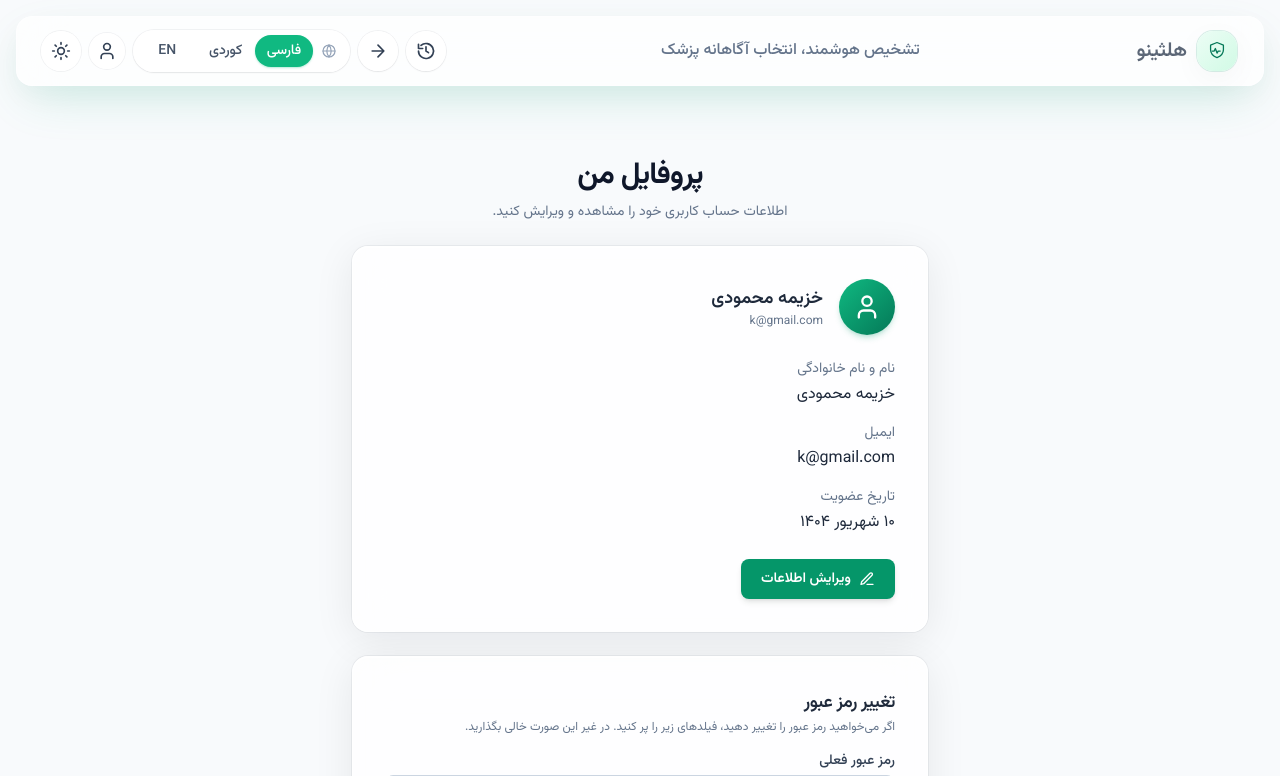
Test: UserProfile.vue › keeps editing and surfaces server errors when updateProfile fails
Click the button with test id "profile-edit-button" at {"x": 818, "y": 579}, box [741,559,895,599]
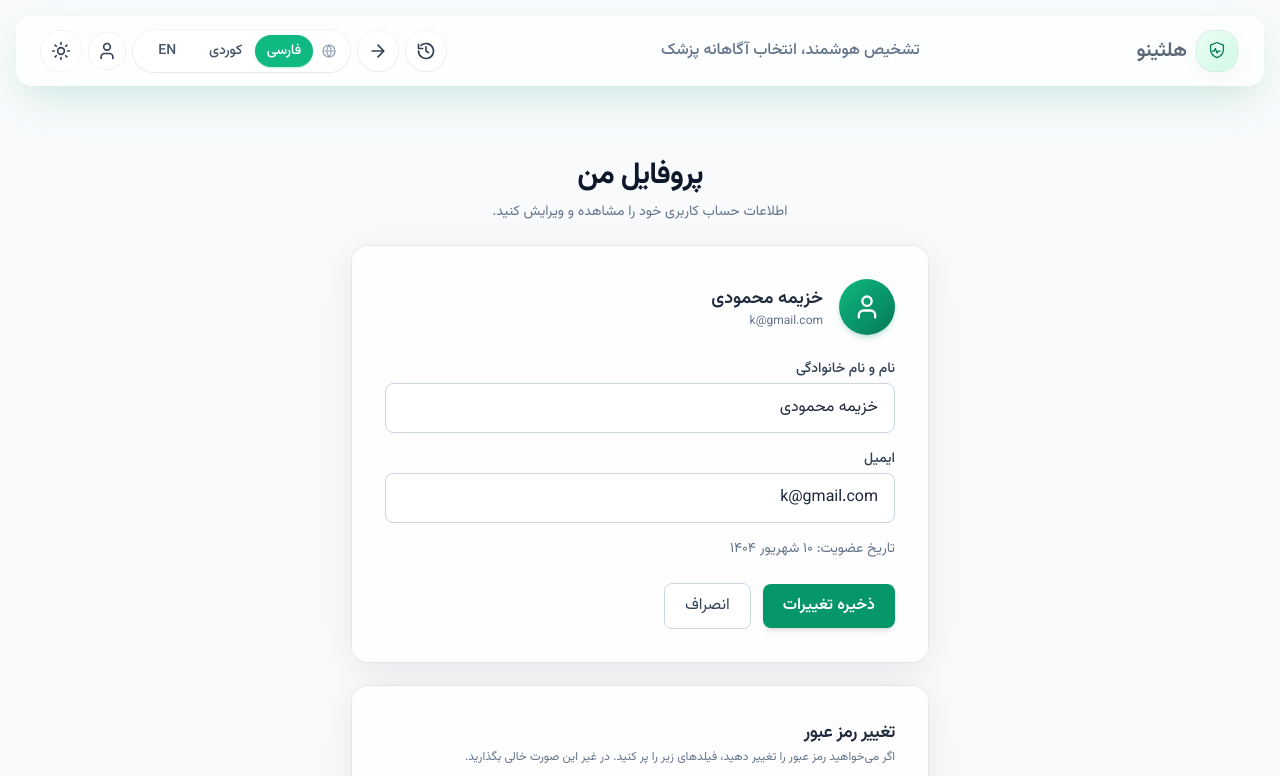
Replace the text in the field with test id "profile-email-input" with "taken@example.com" at {"x": 640, "y": 498}, box [385,473,895,523]
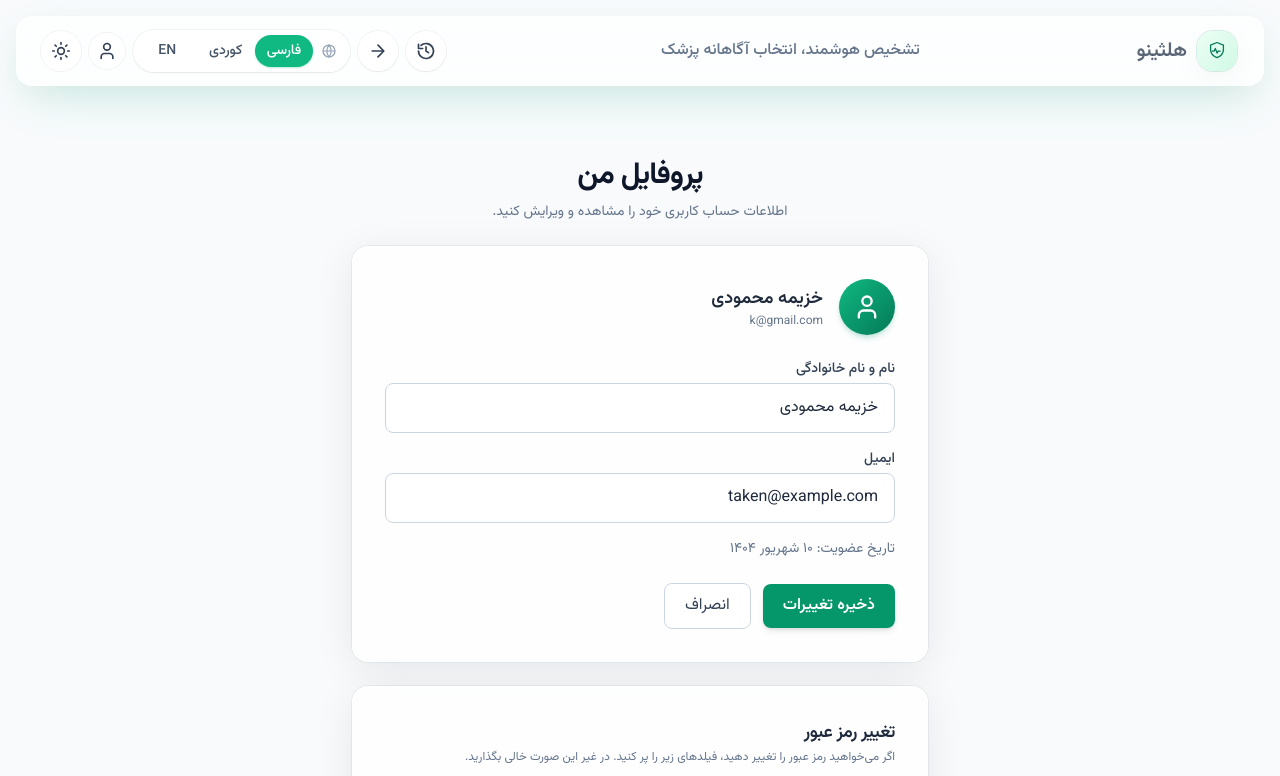
Submit the form with test id "profile-edit-form", box [385,359,895,629]
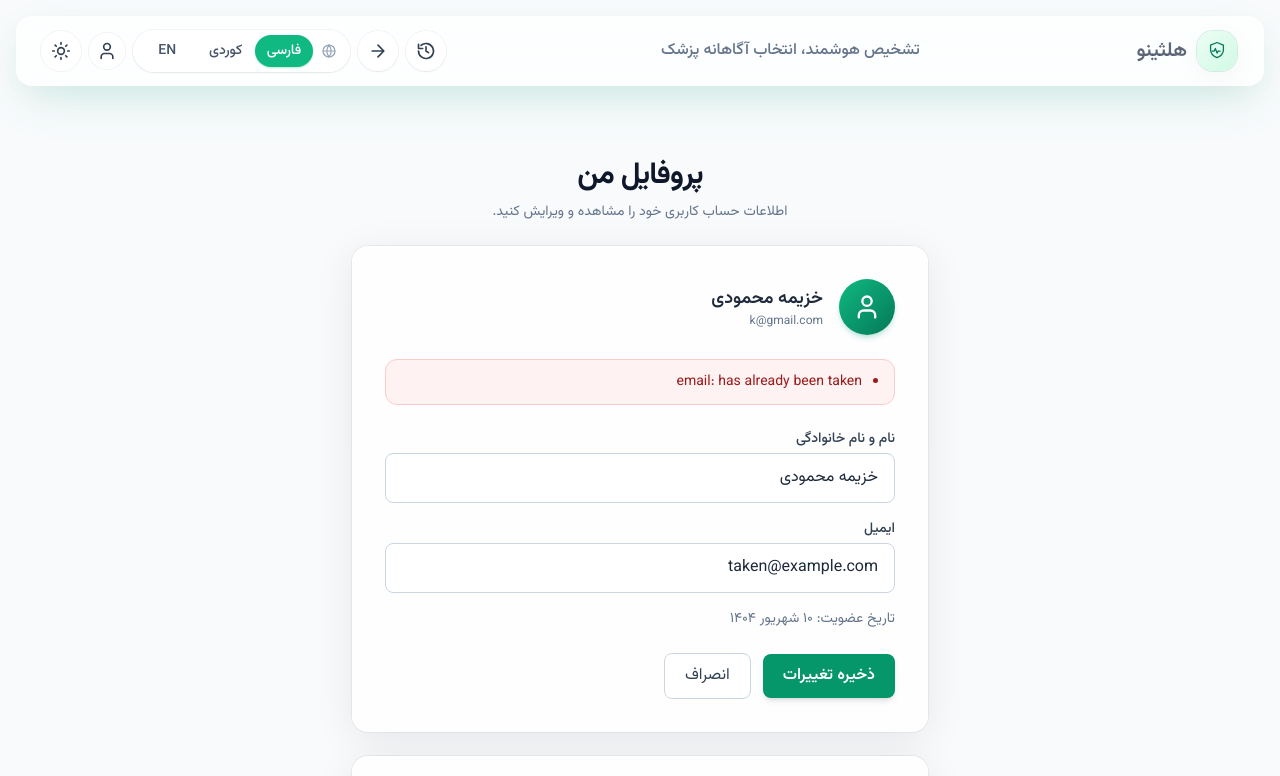
Result: the form with test id "profile-edit-form" is shown at [385,429,895,699]
Result: the message "email: has already been taken" is shown at [385,359,895,405]
Result: the message with test id "profile-error" reads "email: has already been taken" at [676,371,862,393]
